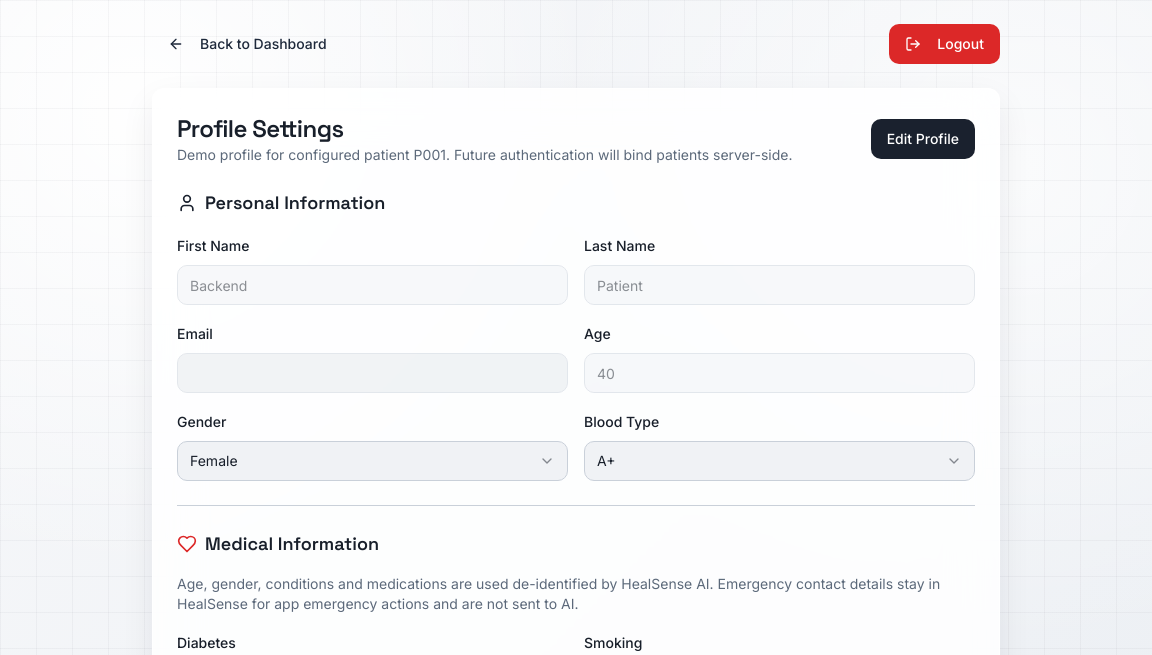
Scenario: loads backend values and Cancel restores them, not Auth values
This screenshot has width=1152, height=655.
Expected: the field showing "Backend" is shown, [177, 265, 568, 305]
Click the button "Edit Profile": (923, 139) [871, 119, 975, 159]
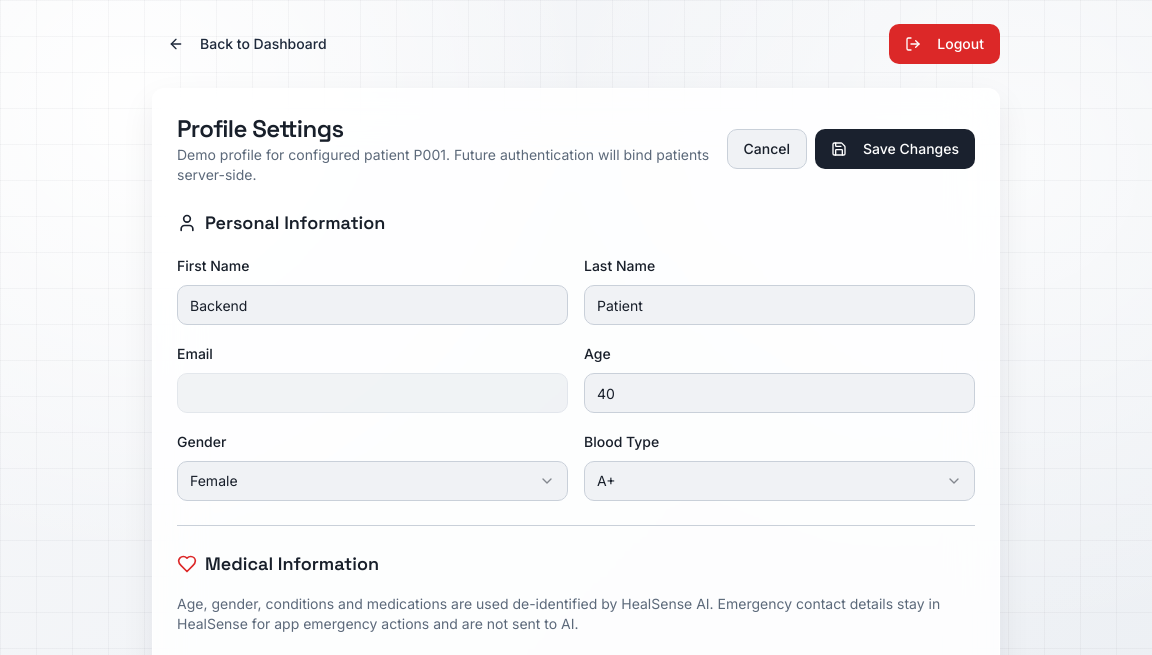
Replace the text in the field labelled "First Name" with "Draft": (372, 305) [177, 285, 568, 325]
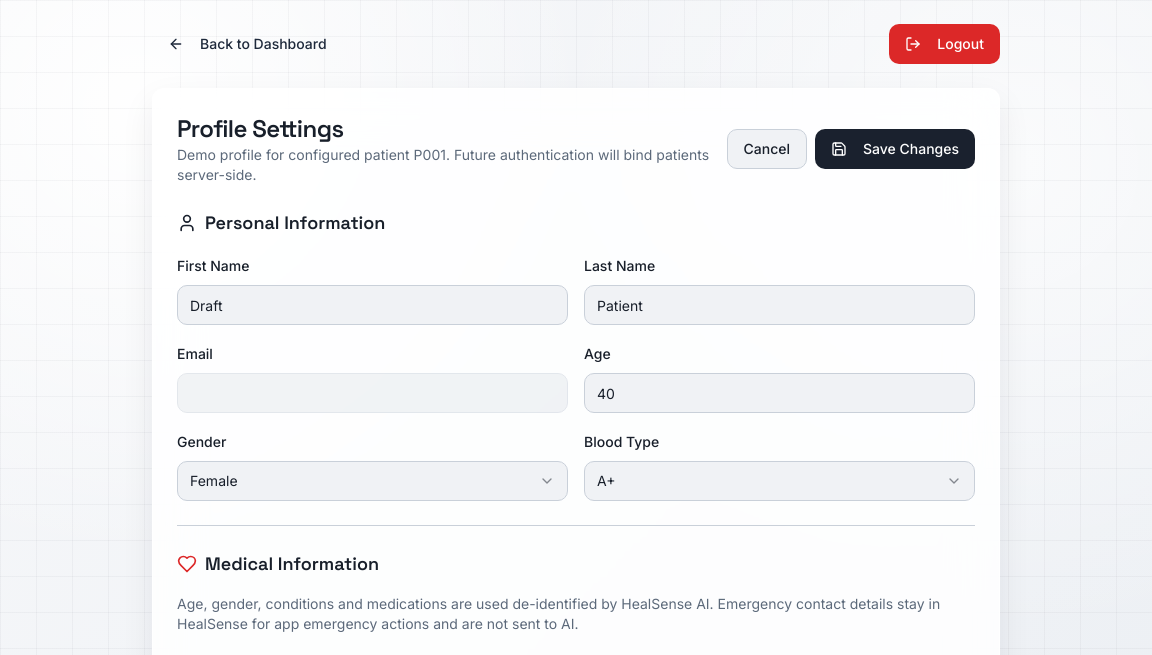
Click the button "Cancel": (767, 149) [726, 129, 807, 169]
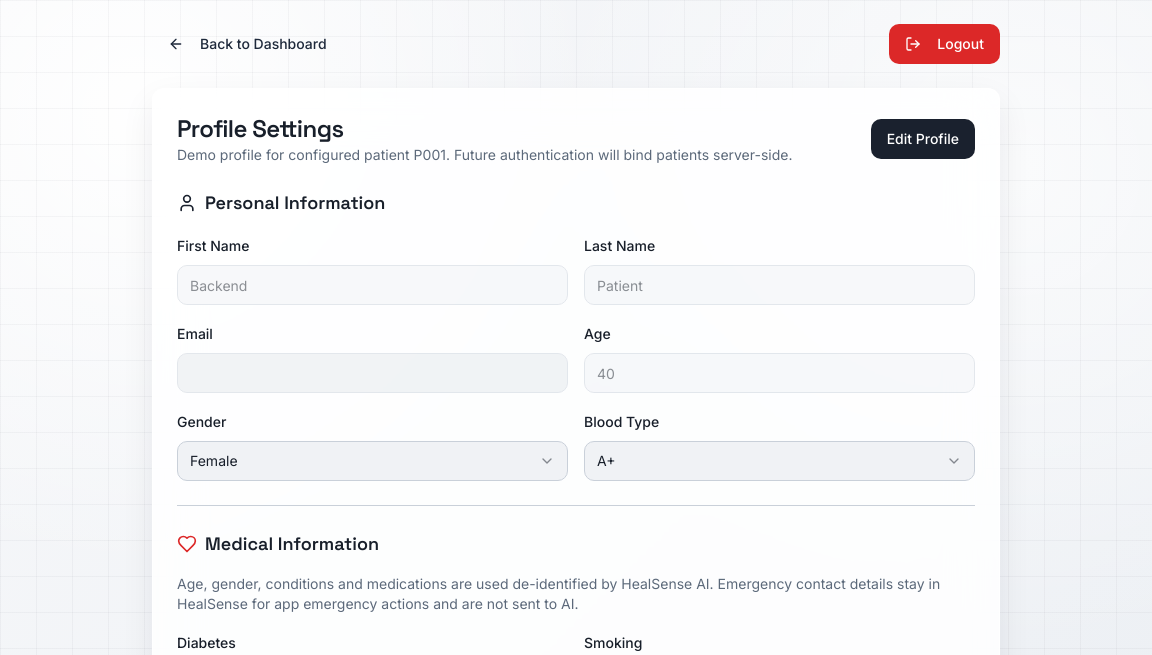
Expected: the field labelled "First Name" holds "Backend", [177, 265, 568, 305]
